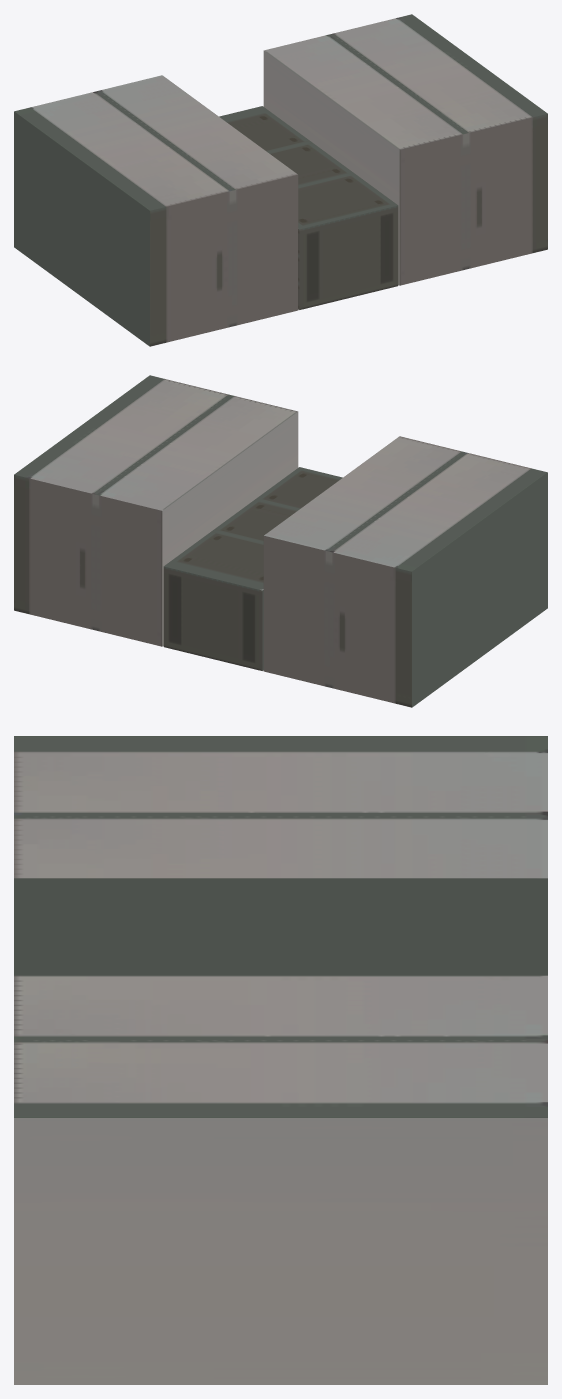
The model's file is Building_AncientMachine.glb.
3 views of the same model, one above another, from view 1: azimuth 30°, elevation 25°; view 2: azimuth 150°, elevation 25°; view 3: azimuth 270°, elevation 25° (orthographic). The views are drawn at different scales.
Parts seen in each view (by area): view 1: AncientMachine; view 2: AncientMachine; view 3: AncientMachine.
Part boxes in pixels (x1,y1,x2,y2): AncientMachine: (14, 14, 547, 346); AncientMachine: (14, 375, 547, 707); AncientMachine: (14, 736, 547, 1384).
Bounding box in the file's own units: 4.91 × 1.6 × 2.9.
Materials: 1 (1 with a texture image).
